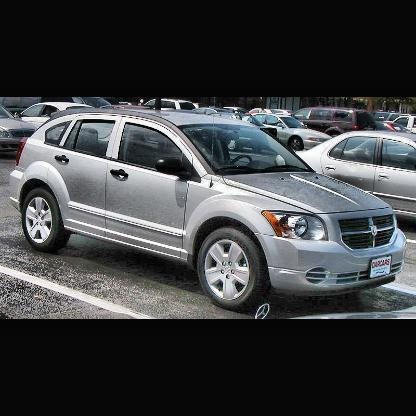Dodge Caliber Wagon 2012: (9, 107, 410, 314)
